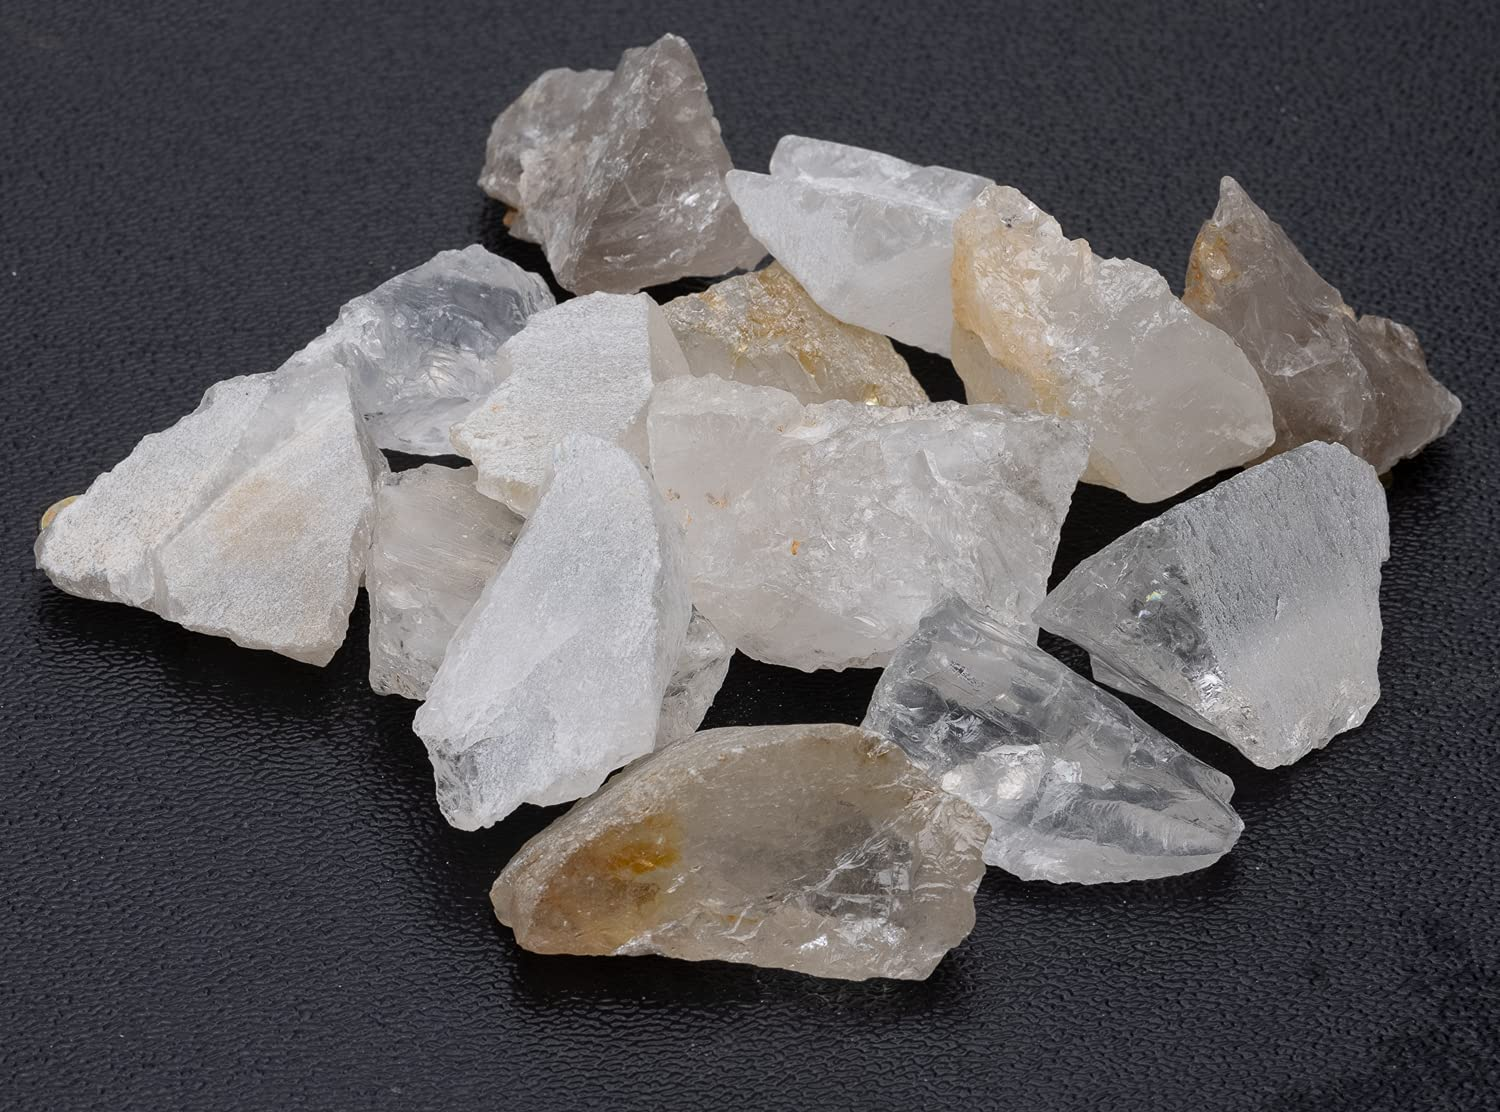Clear_Quartz: (646, 375, 1095, 675), (492, 725, 987, 980), (1050, 437, 1391, 778), (32, 360, 373, 670), (480, 28, 769, 293)
